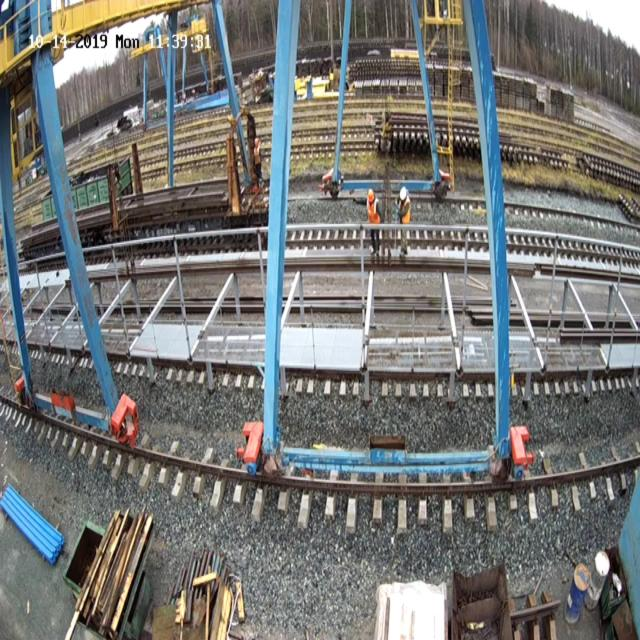Helmet: (399, 186, 407, 201), (367, 188, 374, 204)
Person: (396, 186, 411, 257), (366, 188, 381, 255), (252, 137, 263, 191)
